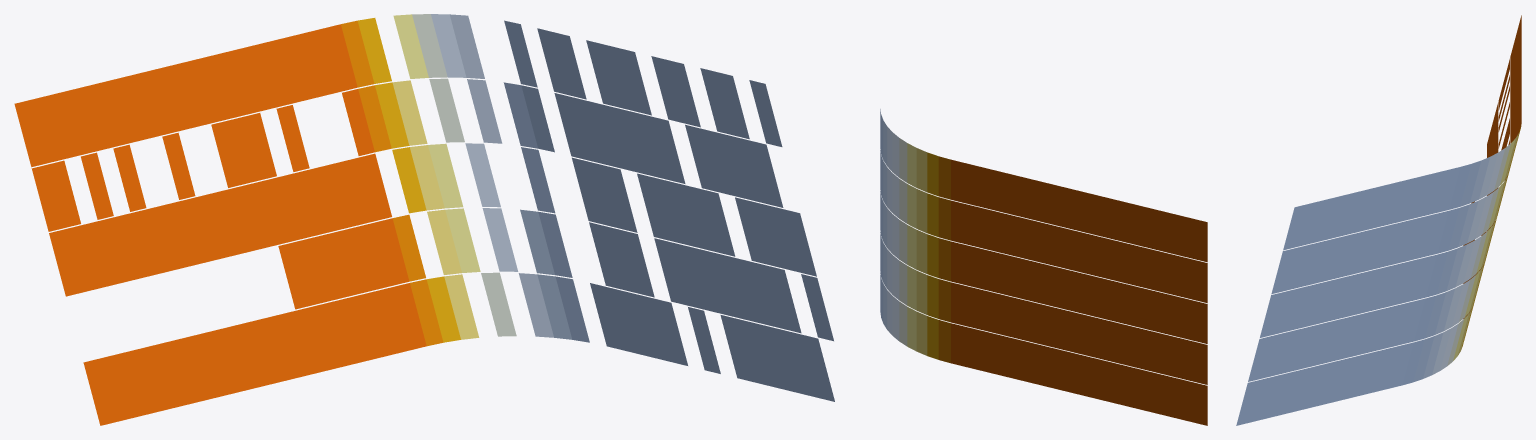
File: PanelUnitsColored.gltf
3 renders of one model, left to right at view 1: azimuth 30°, elevation 25°; view 2: azimuth 150°, elevation 25°; view 3: azimuth 270°, elevation 25°, orthographic. The views are drawn at different scales.
Parts seen in each view (by area): view 1: GH_Obj (×167); view 2: GH_Obj (×130); view 3: GH_Obj (×100).
Part boxes in pixels (box(x1,y1,x2,y2)): GH_Obj (×167): box(14, 14, 834, 425); GH_Obj (×130): box(892, 132, 1207, 425); GH_Obj (×100): box(1236, 148, 1505, 425).
Bounding box in the file's own units: 52.9 × 24.3 × 30.76.
